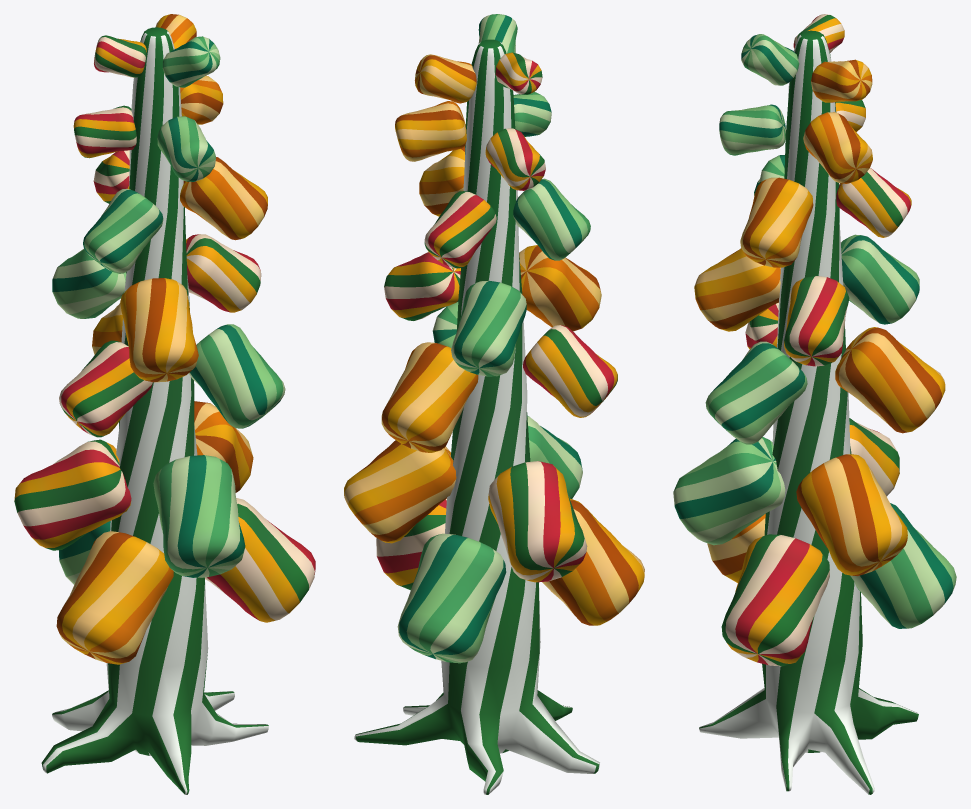
File: cw_tree_10.fbx
The picture shows the model from 3 angles, left to right: view 1: azimuth 30°, elevation 25°; view 2: azimuth 150°, elevation 25°; view 3: azimuth 270°, elevation 25°; orthographic projection.
Visible parts, largest first — view 1: cw_t_10; view 2: cw_t_10; view 3: cw_t_10.
Boxes of the visible parts, x1=… form: cw_t_10: x1=14, y1=14, x2=315, y2=794; cw_t_10: x1=344, y1=14, x2=644, y2=794; cw_t_10: x1=673, y1=14, x2=956, y2=794.
Bounding box in the file's own units: 74.94 × 203 × 72.84.
